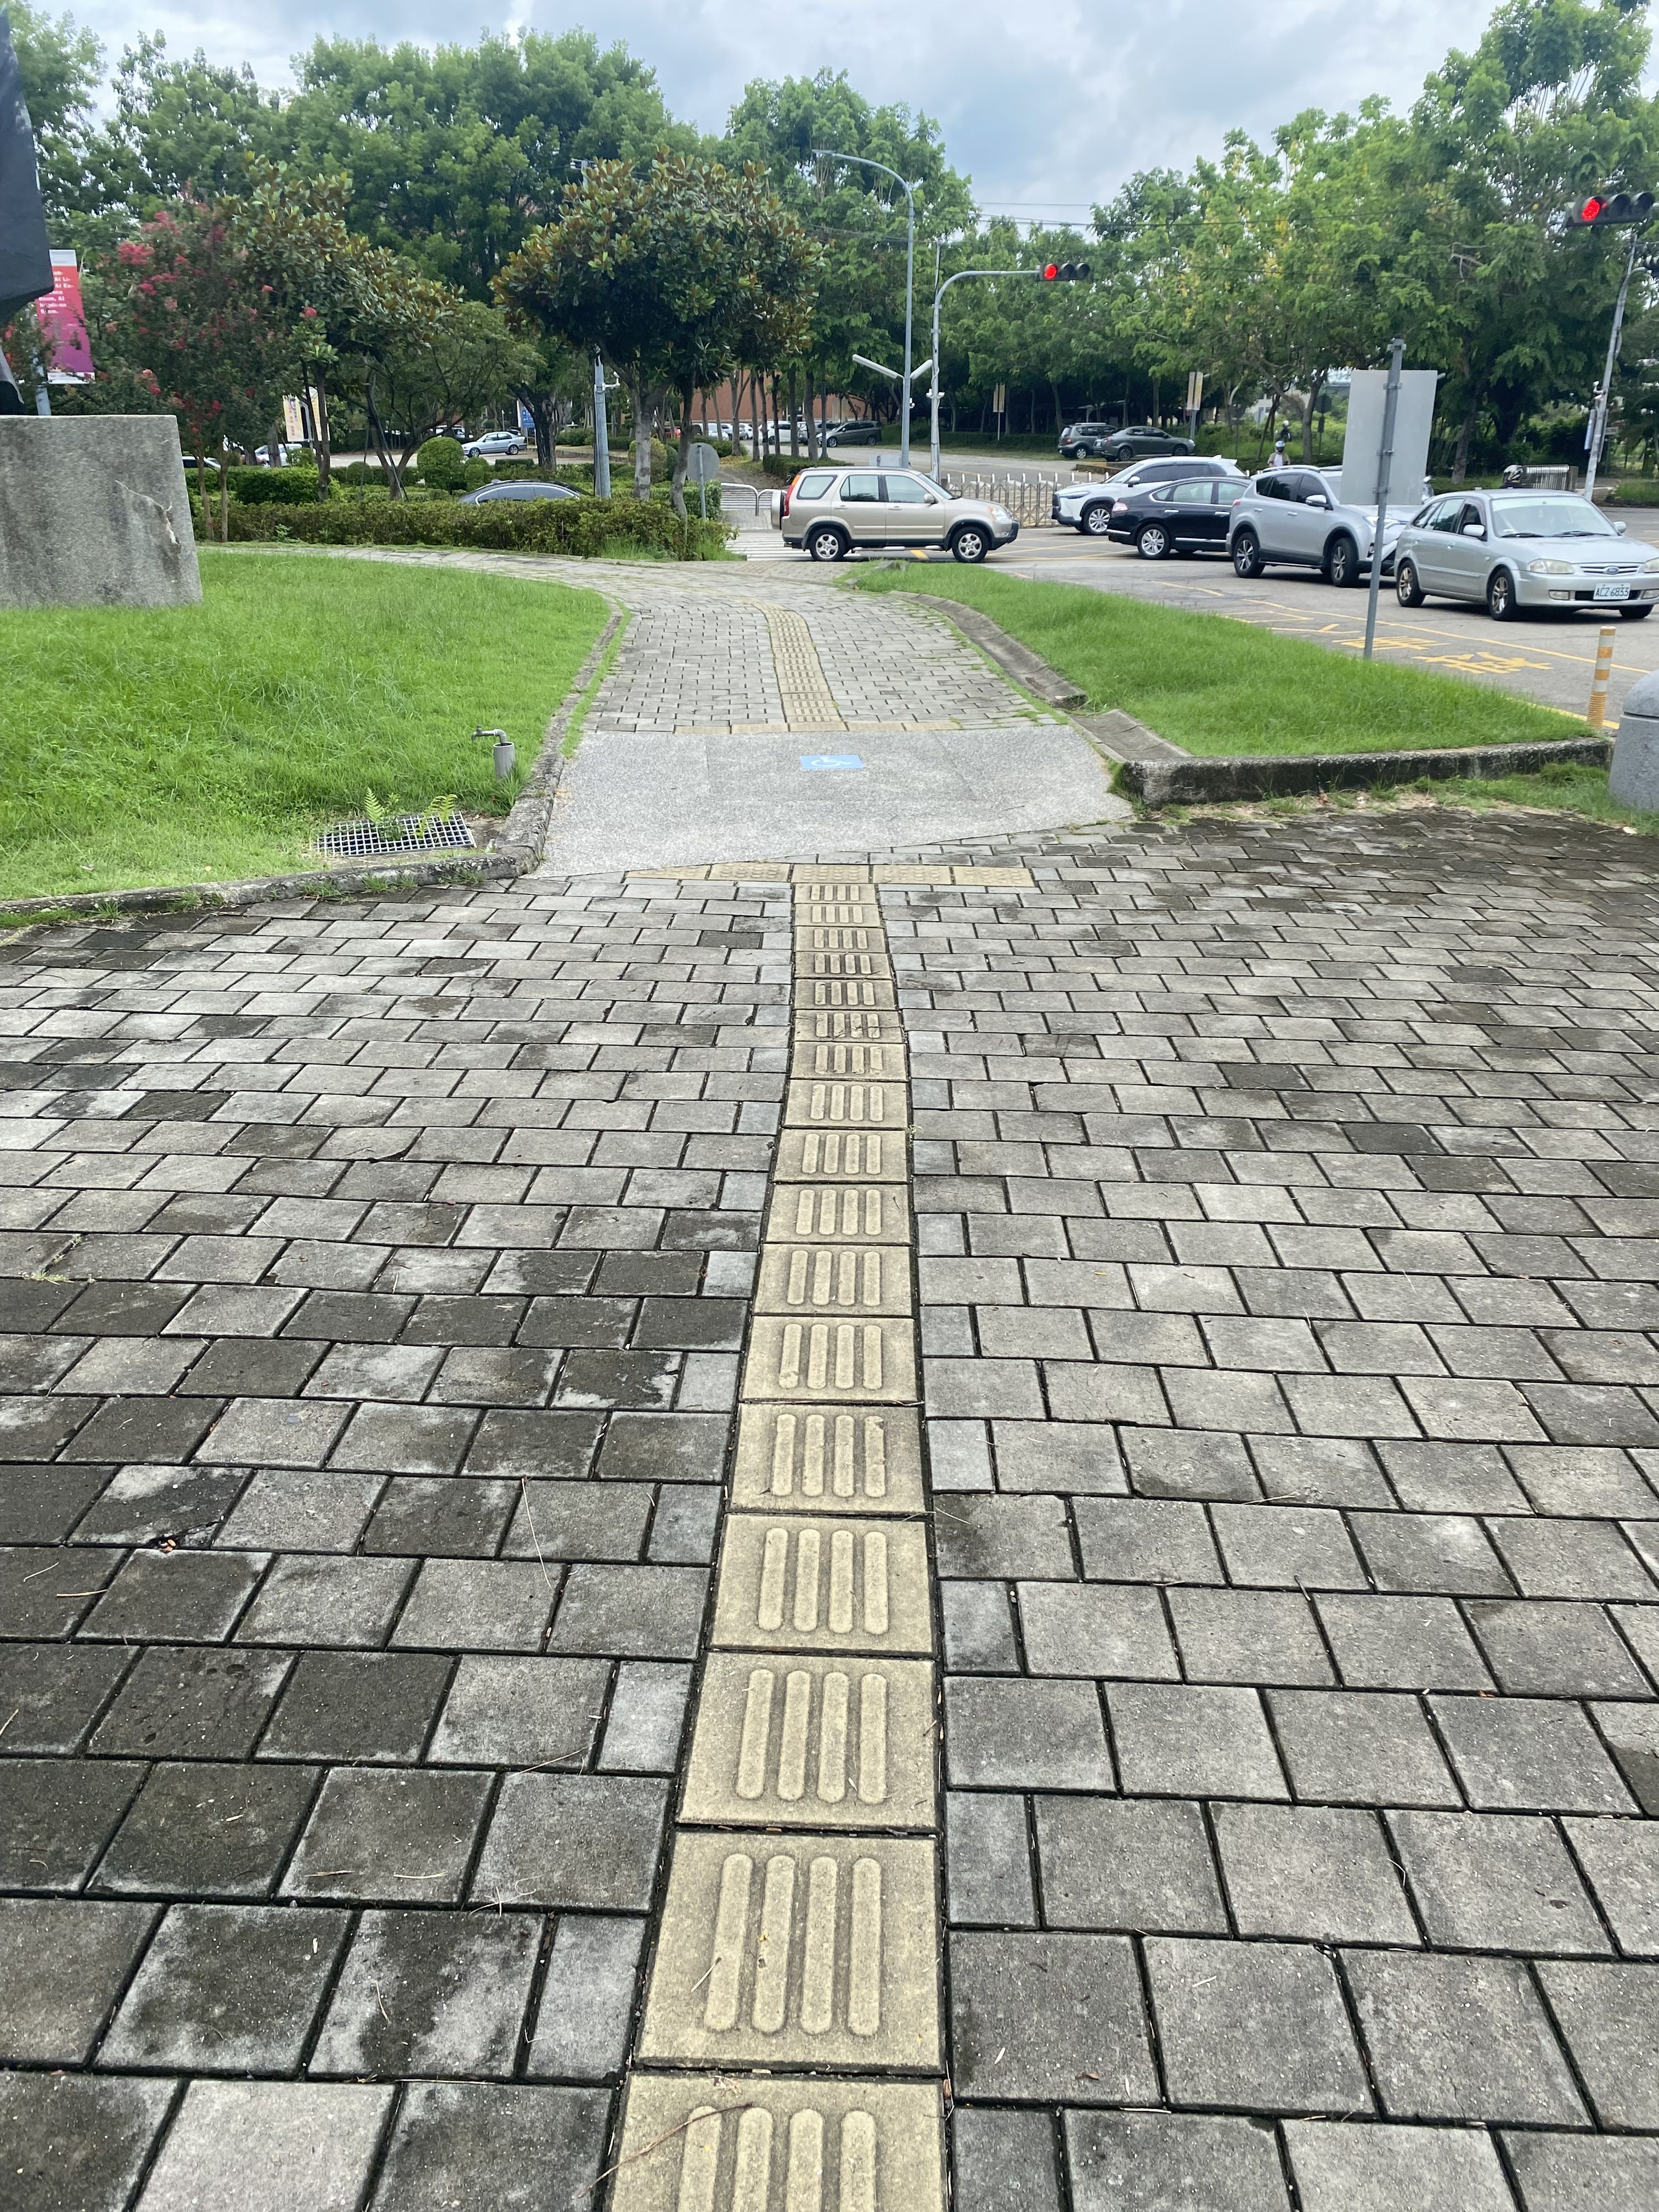0: (0, 873, 1659, 2212)
sidewalk: (504, 531, 1258, 1015)
